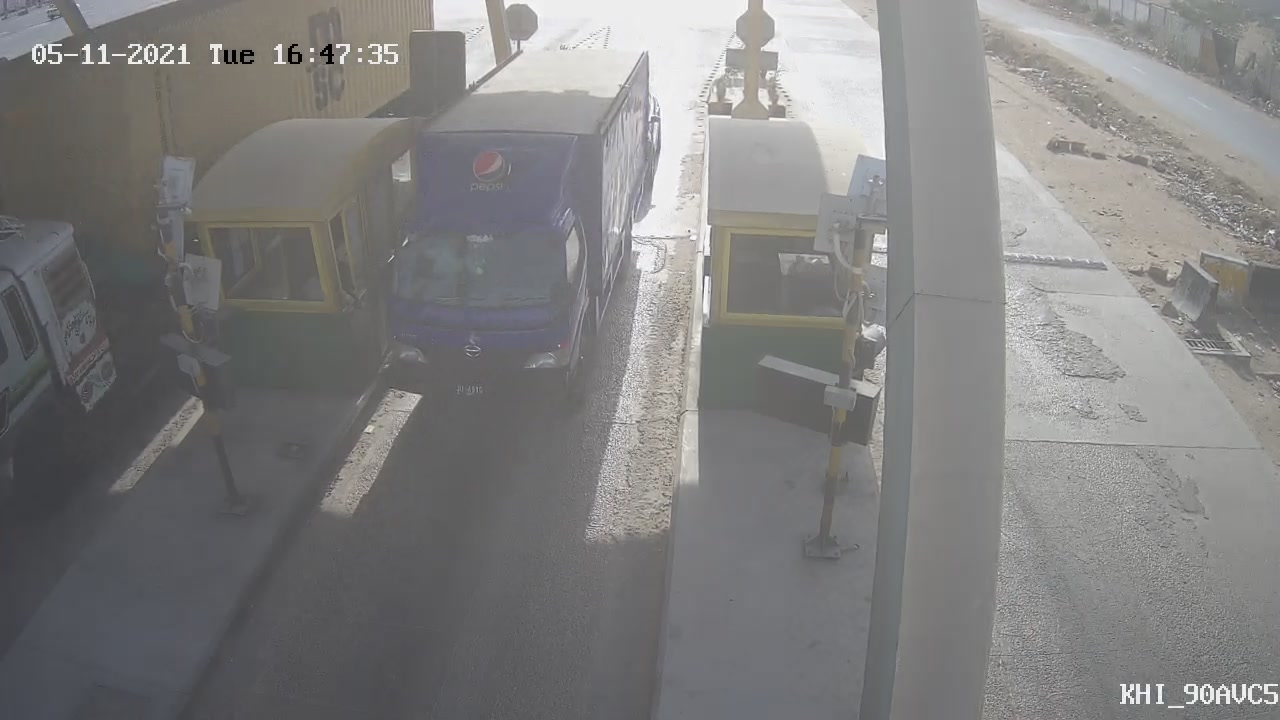F5: (330, 24, 683, 439)
